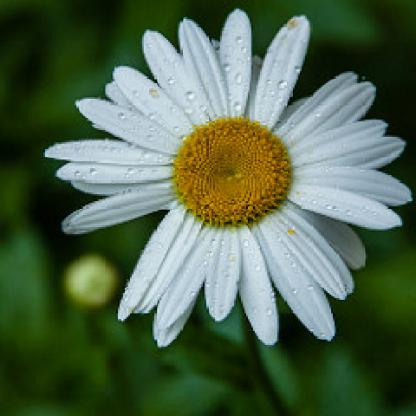ASTER: (39, 15, 415, 375)
